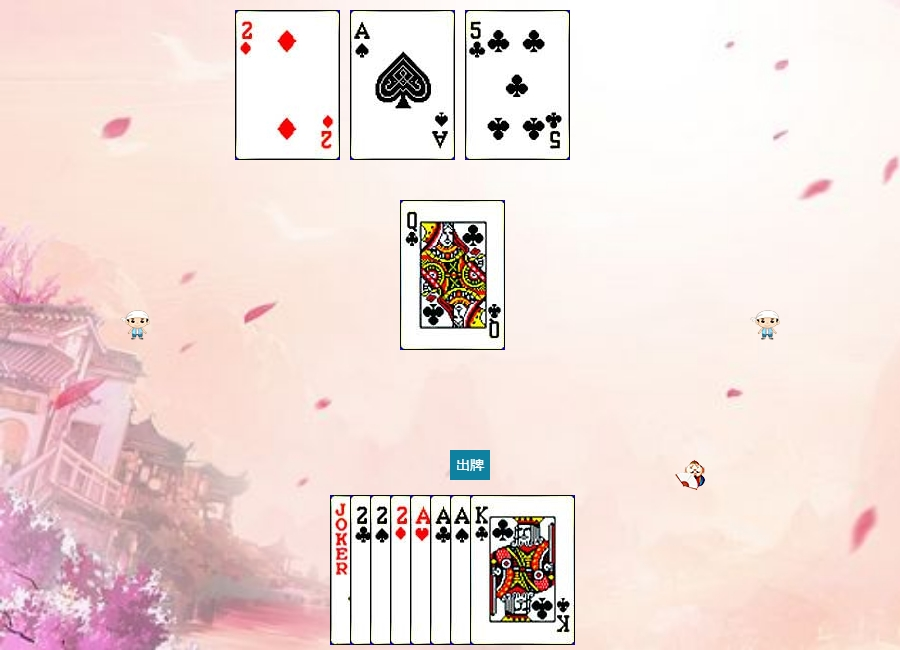12~2: (400, 200, 505, 350)
13~2: (470, 495, 575, 645)
14~2: (430, 495, 535, 645)
14~3: (410, 495, 515, 645)
14~4: (350, 10, 455, 160), (450, 495, 555, 645)
15~1: (235, 10, 340, 160), (390, 495, 495, 645)
15~2: (350, 495, 455, 645)
15~4: (370, 495, 475, 645)
18~4: (330, 495, 435, 645)
5~2: (465, 10, 570, 160)
